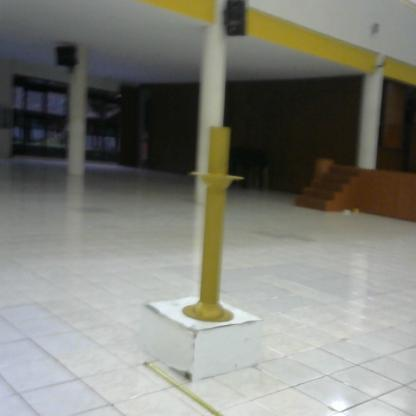pole: (180, 118, 248, 326)
